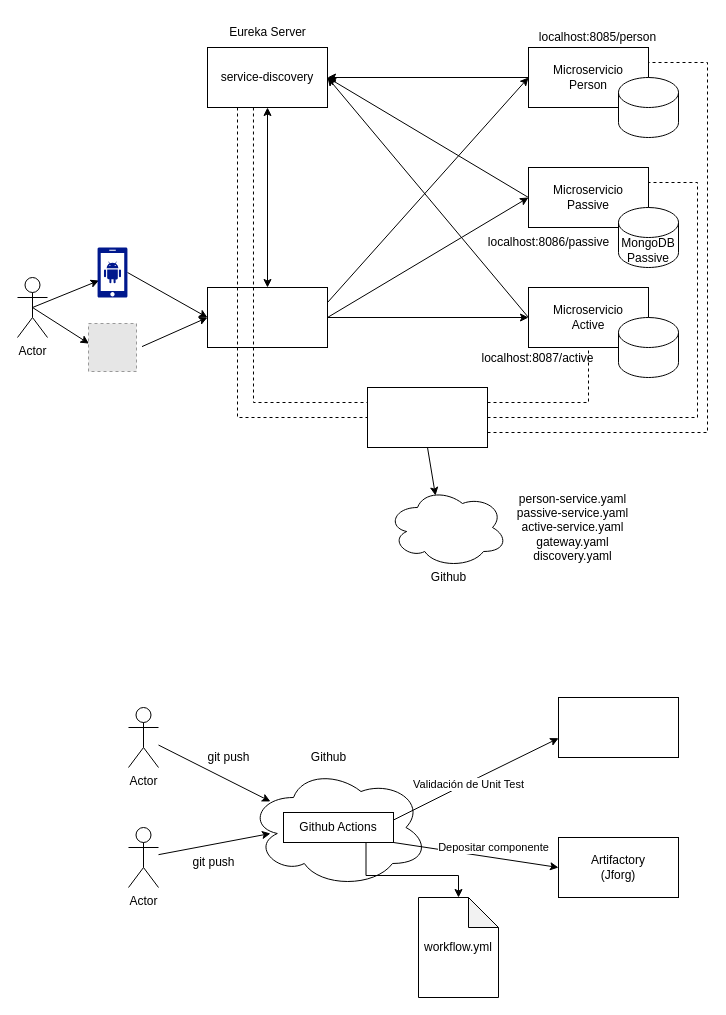
This 726x1015 diagram has some shape labels left out. Grey dashed boxes stand in for pictures. The shapes that lost their labels are listed below. From the top down, each one's centre as x and y in pixels, then its label:
At pixel 648 107: "MongoDB Person".
At pixel 267 317: "api-gateway".
At pixel 648 347: "MongoDB Active".
At pixel 427 417: "config-server".
At pixel 618 727: "sonarqube".
